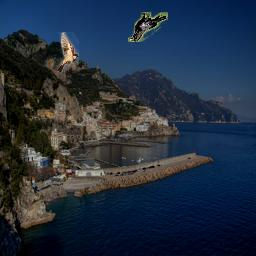Crow: (128, 12, 168, 42)
Sparrow: (57, 32, 79, 72)
